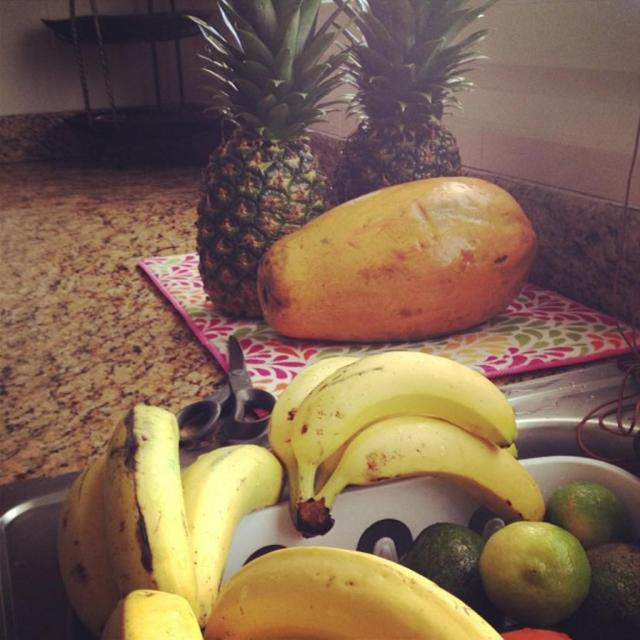banana: (268, 351, 518, 508), (322, 416, 546, 522)
